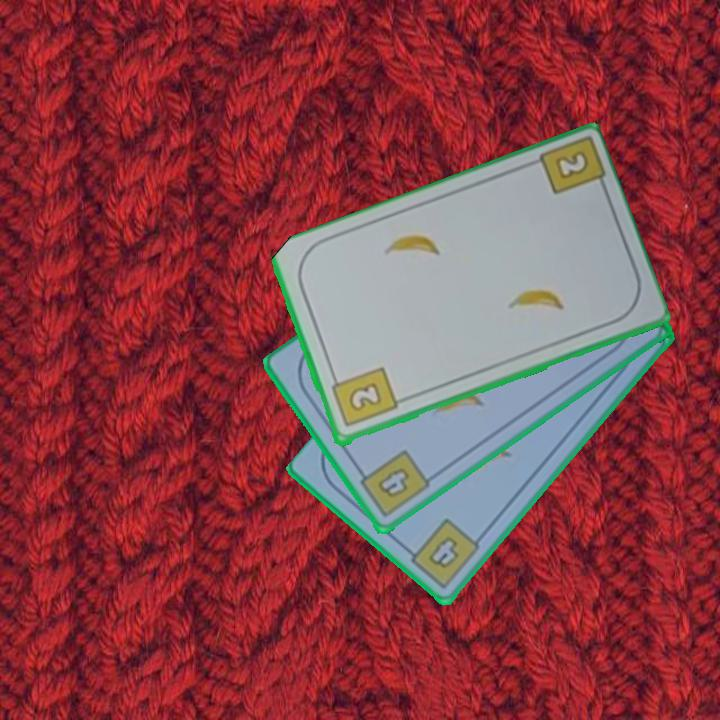2b: (327, 364, 400, 431), (551, 147, 592, 183)
4b: (401, 515, 483, 592), (353, 446, 434, 521)
